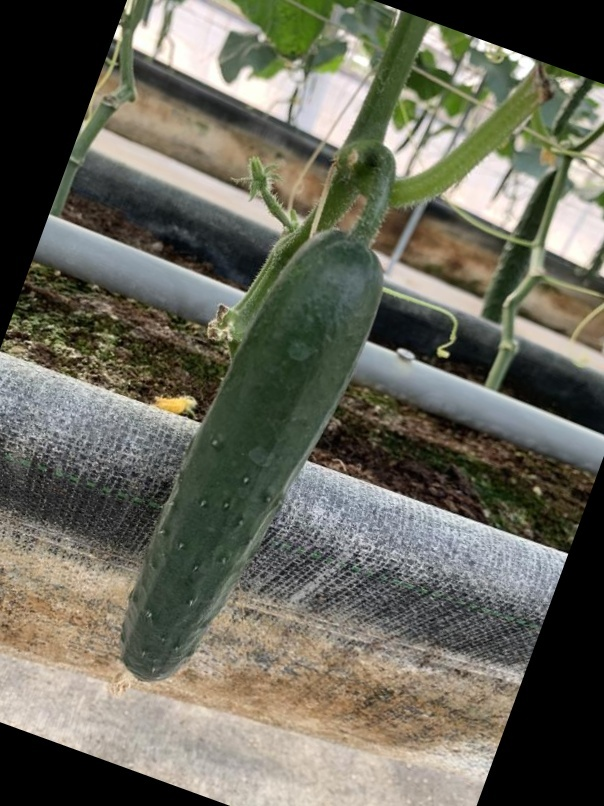mature: (117, 228, 395, 684)
